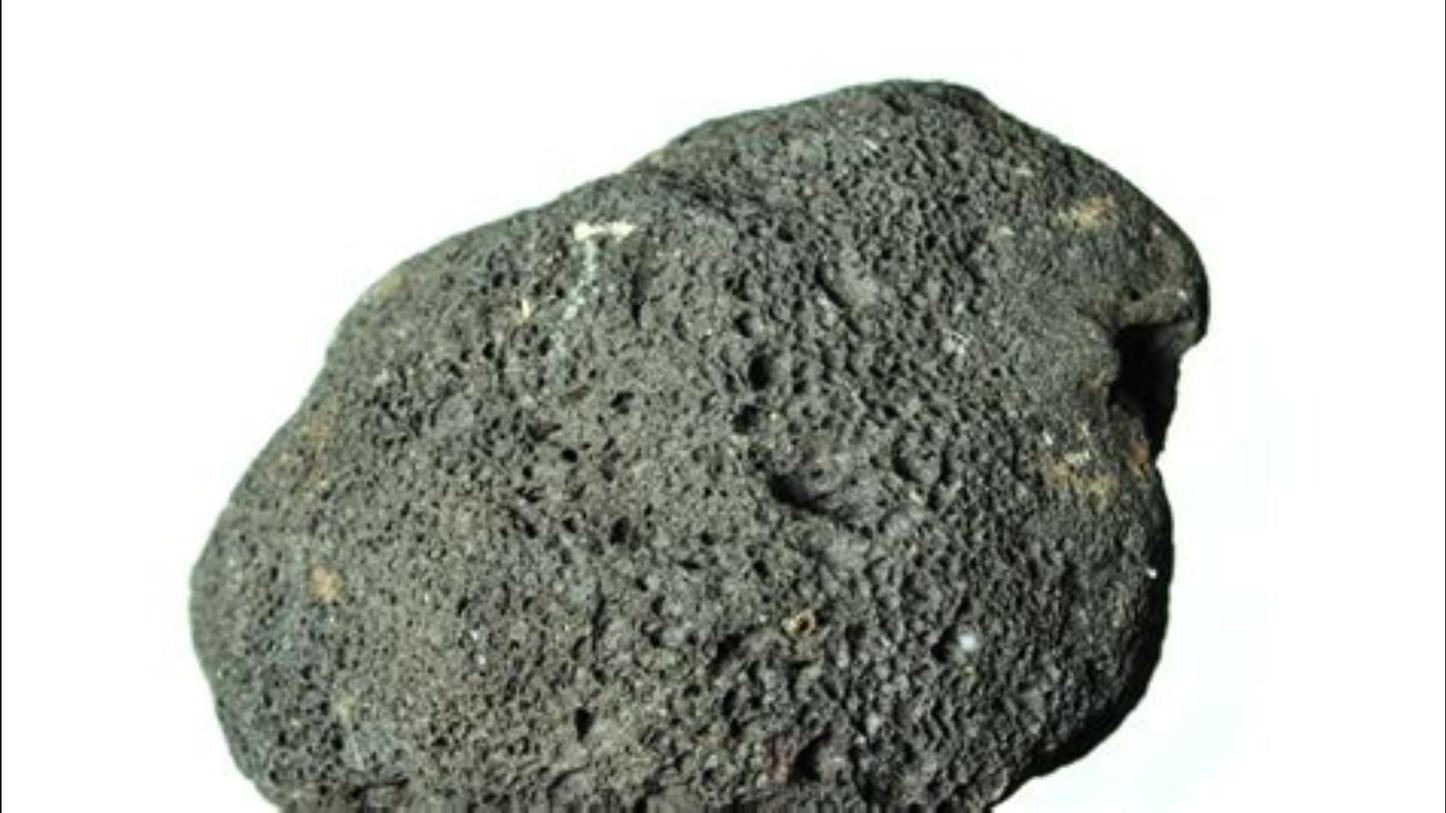rock: (193, 82, 1204, 810)
